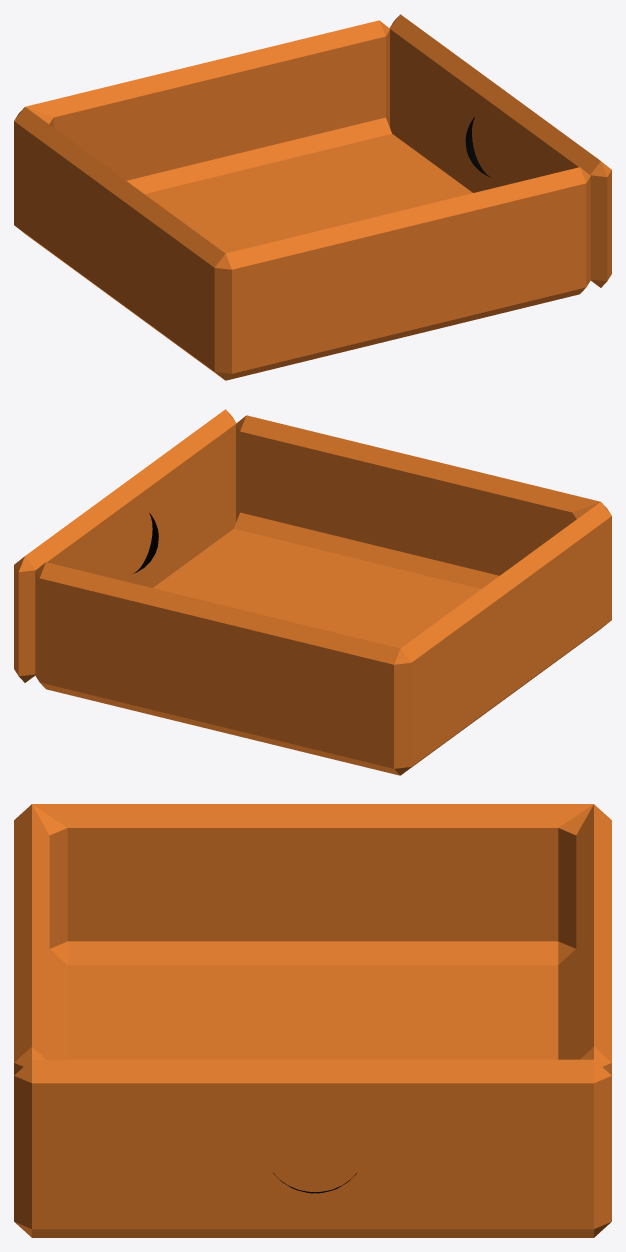
The model's file is Drawer1.fbx.
The picture shows the model from 3 angles, top to bottom: view 1: azimuth 30°, elevation 25°; view 2: azimuth 150°, elevation 25°; view 3: azimuth 270°, elevation 25°; orthographic projection. The views are drawn at different scales.
Parts seen in each view (by area): view 1: ShelfDrawer; view 2: ShelfDrawer; view 3: ShelfDrawer.
Part boxes in pixels (left/top/right/bottom): ShelfDrawer: left=14, top=14, right=611, bottom=380; ShelfDrawer: left=14, top=409, right=611, bottom=775; ShelfDrawer: left=14, top=804, right=611, bottom=1237.
Bounding box in the file's own units: 39.78 × 11.51 × 34.72.
